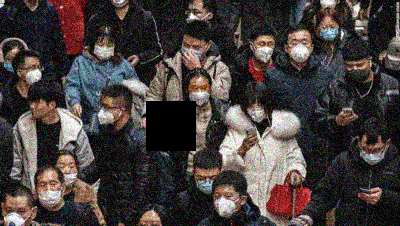mask_weared_incorrect: (56, 160, 78, 187)
with_mask: (211, 190, 240, 219), (35, 178, 63, 208), (288, 37, 312, 63), (345, 61, 372, 84), (361, 143, 387, 166), (3, 205, 32, 225), (188, 82, 212, 106), (195, 172, 221, 194), (254, 38, 276, 63), (181, 40, 206, 61), (246, 99, 268, 122), (96, 101, 116, 126), (93, 40, 116, 61), (318, 22, 341, 42), (25, 62, 43, 86), (184, 7, 207, 24), (3, 54, 16, 74)
without_mask: (28, 98, 48, 119)
